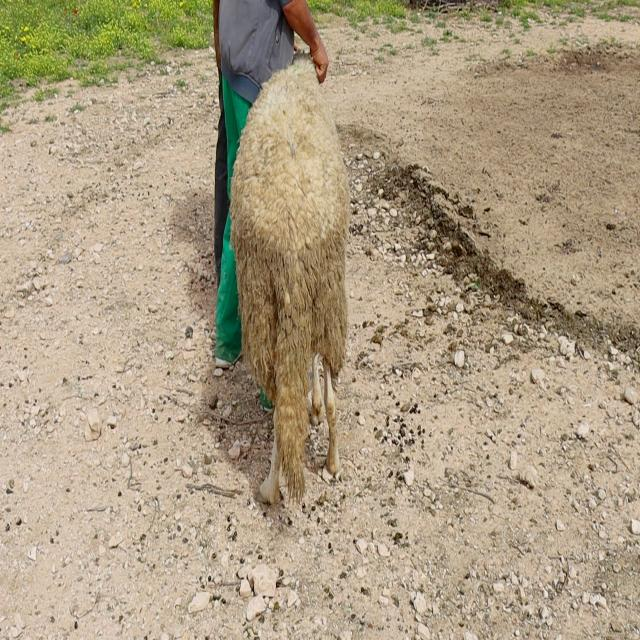Score_3: (231, 60, 349, 504)
